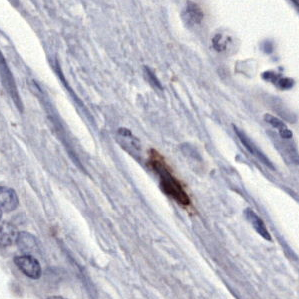Lymphocyte: (148, 147, 194, 208)
